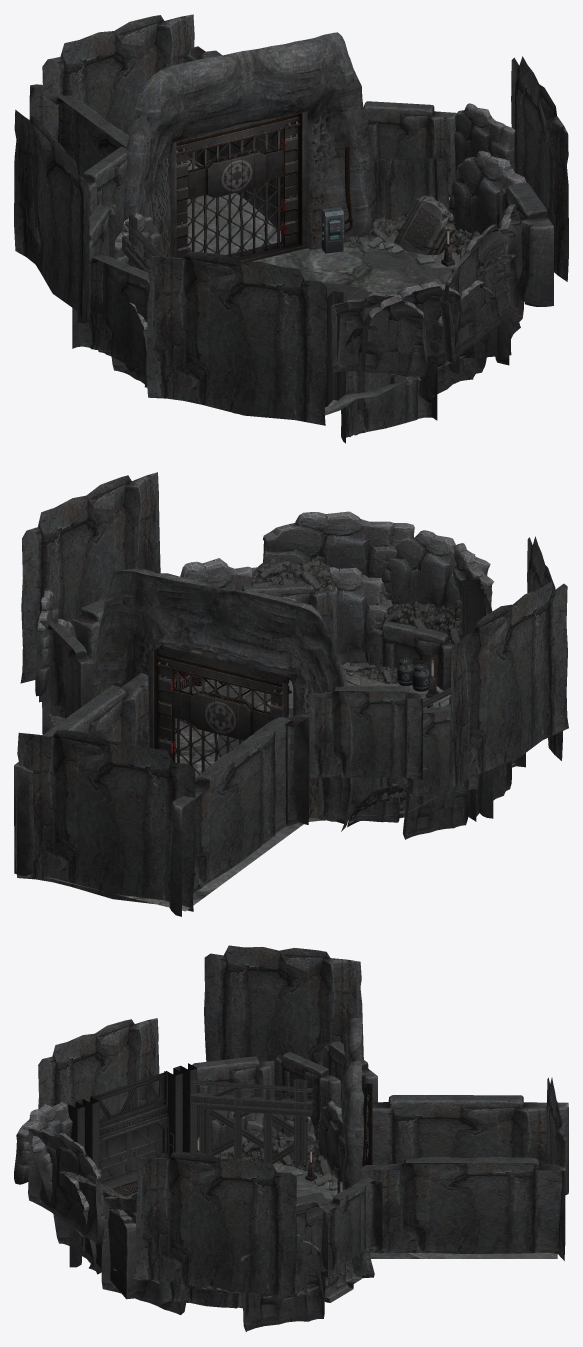
The model's file is env_zef_arena_01_pre.glb.
3 views of the same model, one above another, from view 1: azimuth 30°, elevation 25°; view 2: azimuth 150°, elevation 25°; view 3: azimuth 270°, elevation 25° (orthographic). The views are drawn at different scales.
Visible parts, largest first — view 1: zef_door_02_rock, zef_rock_bg_mesh_02, zef_door_02, zef_rock_bg_mesh_01, zef_rock_bg_mesh, zef_arena_ground_mesh, zef_rock_bg_mesh_03, zef_rock_21, zef_rock_12, zef_rock_01, zef_rock_14, zef_rock_16 (×2) (+18 smaller); view 2: zef_rock_bg_mesh, zef_door_02_rock, zef_rock_bg_mesh_01, zef_rock_15 (×2), zef_rock_16 (×2), zef_rock_bg_mesh_03, zef_door_02, zef_rock_12, zef_rock_07, zef_arena_ground_mesh, zef_rock_06, zef_rock_04 (+16 smaller); view 3: zef_rock_bg_mesh_03, zef_rock_15 (×2), zef_rock_bg_mesh_01, zef_rock_16 (×2), zef_door_01, zef_rock_bg_mesh_02, zef_arena_scaffold, zef_rock_12, zef_rock_14, zef_door_02_rock, zef_rock_11, zef_rock_01 (+15 smaller).
Boxes of the visible parts, bbox=[...] form: zef_door_02_rock: bbox=[123, 32, 376, 257]; zef_rock_bg_mesh_02: bbox=[146, 252, 327, 425]; zef_door_02: bbox=[171, 111, 307, 261]; zef_rock_bg_mesh_01: bbox=[14, 109, 89, 324]; zef_rock_bg_mesh: bbox=[42, 14, 194, 159]; zef_arena_ground_mesh: bbox=[187, 159, 465, 415]; zef_rock_bg_mesh_03: bbox=[511, 56, 568, 281]; zef_rock_21: bbox=[330, 292, 427, 377]; zef_rock_12: bbox=[440, 224, 518, 364]; zef_rock_01: bbox=[72, 255, 149, 371]; zef_rock_14: bbox=[364, 101, 456, 197]; zef_rock_16 (×2): bbox=[29, 84, 147, 387]; zef_rock_bg_mesh: bbox=[15, 730, 195, 911]; zef_door_02_rock: bbox=[93, 568, 353, 831]; zef_rock_bg_mesh_01: bbox=[449, 581, 568, 792]; zef_rock_15 (×2): bbox=[14, 673, 423, 875]; zef_rock_16 (×2): bbox=[169, 714, 511, 916]; zef_rock_bg_mesh_03: bbox=[20, 472, 160, 683]; zef_door_02: bbox=[148, 643, 291, 824]; zef_rock_12: bbox=[263, 511, 414, 577]; zef_rock_07: bbox=[381, 530, 490, 623]; zef_arena_ground_mesh: bbox=[44, 662, 515, 911]; zef_rock_06: bbox=[329, 567, 392, 667]; zef_rock_04: bbox=[369, 621, 453, 690]; zef_rock_bg_mesh_03: bbox=[135, 1152, 297, 1297]; zef_rock_15 (×2): bbox=[322, 1041, 565, 1258]; zef_rock_bg_mesh_01: bbox=[204, 945, 363, 1065]; zef_rock_16 (×2): bbox=[212, 1095, 568, 1195]; zef_door_01: bbox=[68, 1063, 197, 1188]; zef_rock_bg_mesh_02: bbox=[38, 1018, 159, 1119]; zef_arena_scaffold: bbox=[190, 1079, 315, 1168]; zef_rock_12: bbox=[28, 1128, 104, 1244]; zef_rock_14: bbox=[321, 1178, 382, 1277]; zef_door_02_rock: bbox=[341, 1017, 374, 1278]; zef_rock_11: bbox=[240, 1234, 324, 1331]; zef_rock_01: bbox=[192, 1056, 274, 1136].
Size of the model in its own units: 31.55 by 16.13 by 37.68.
Materials: 19 (19 with a texture image).
